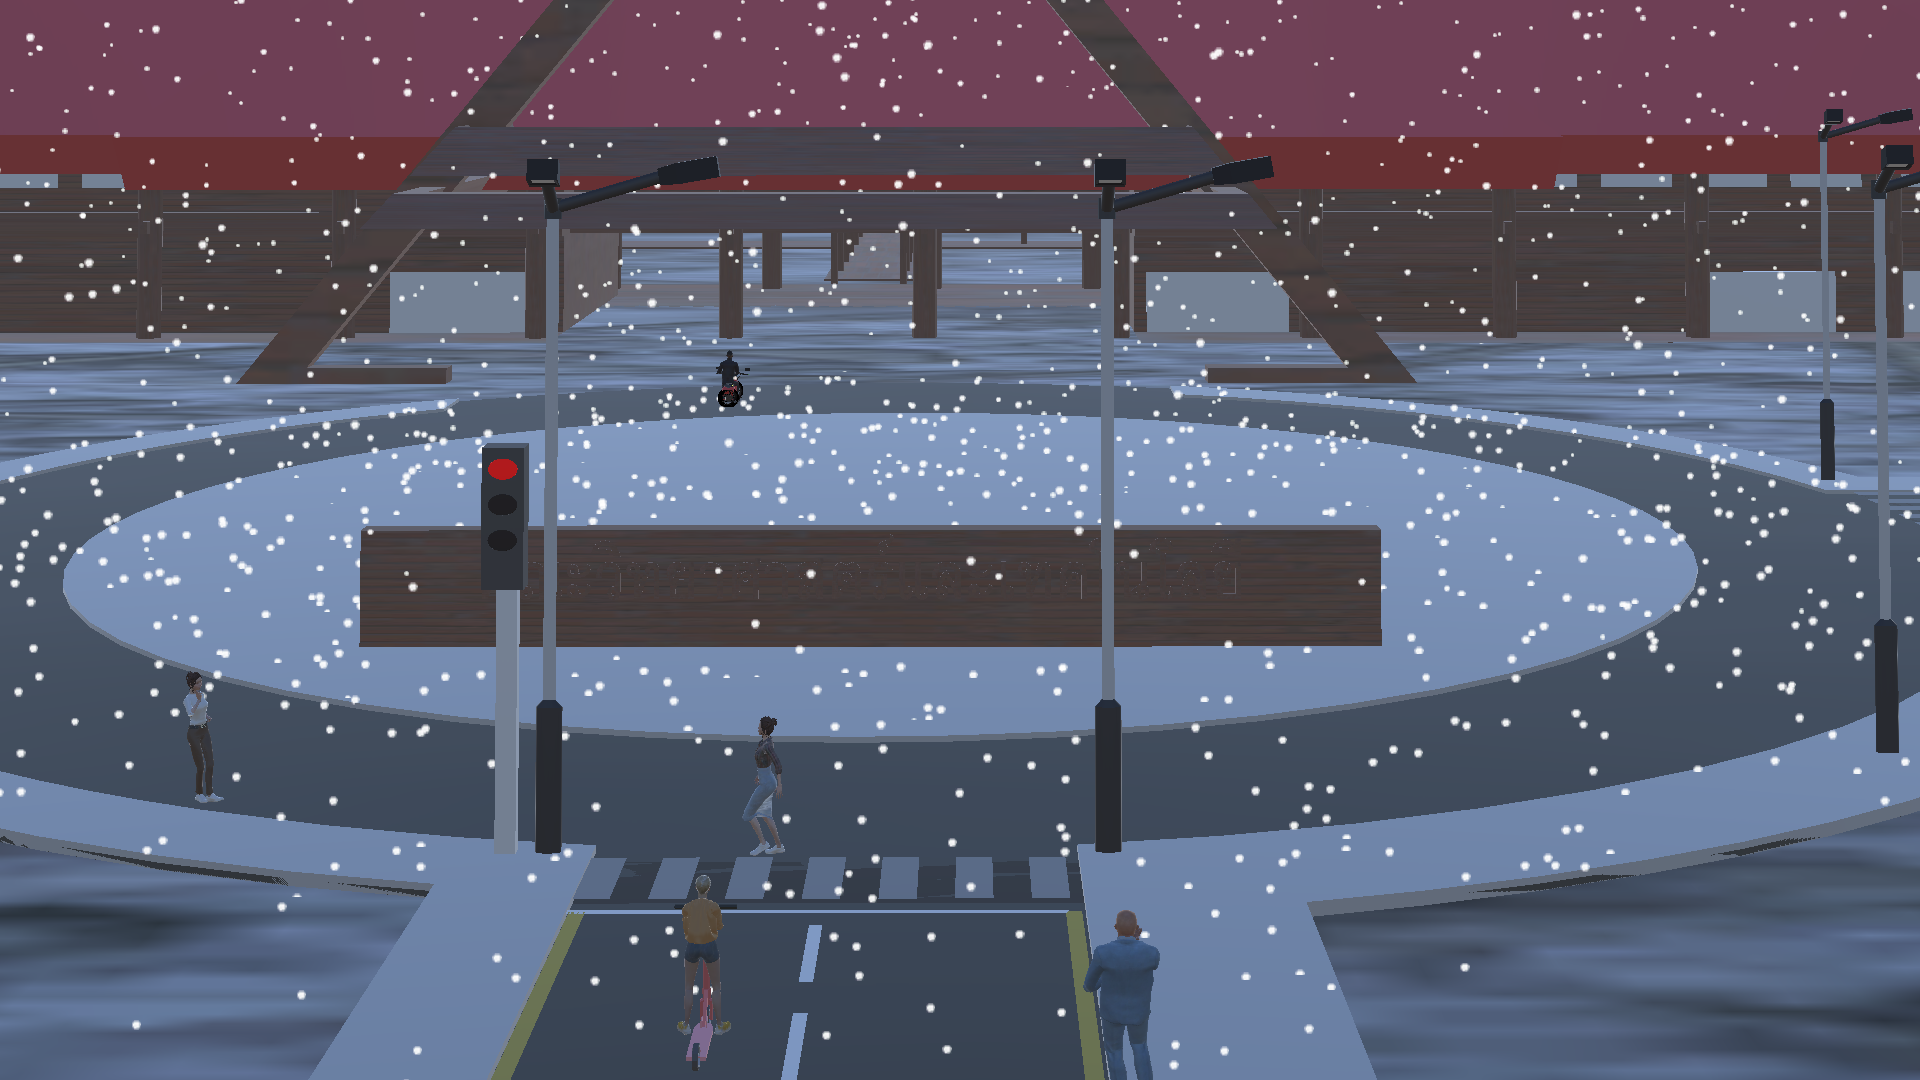pedestrian: (1088, 907, 1173, 1080), (739, 711, 802, 860), (176, 669, 238, 808)
